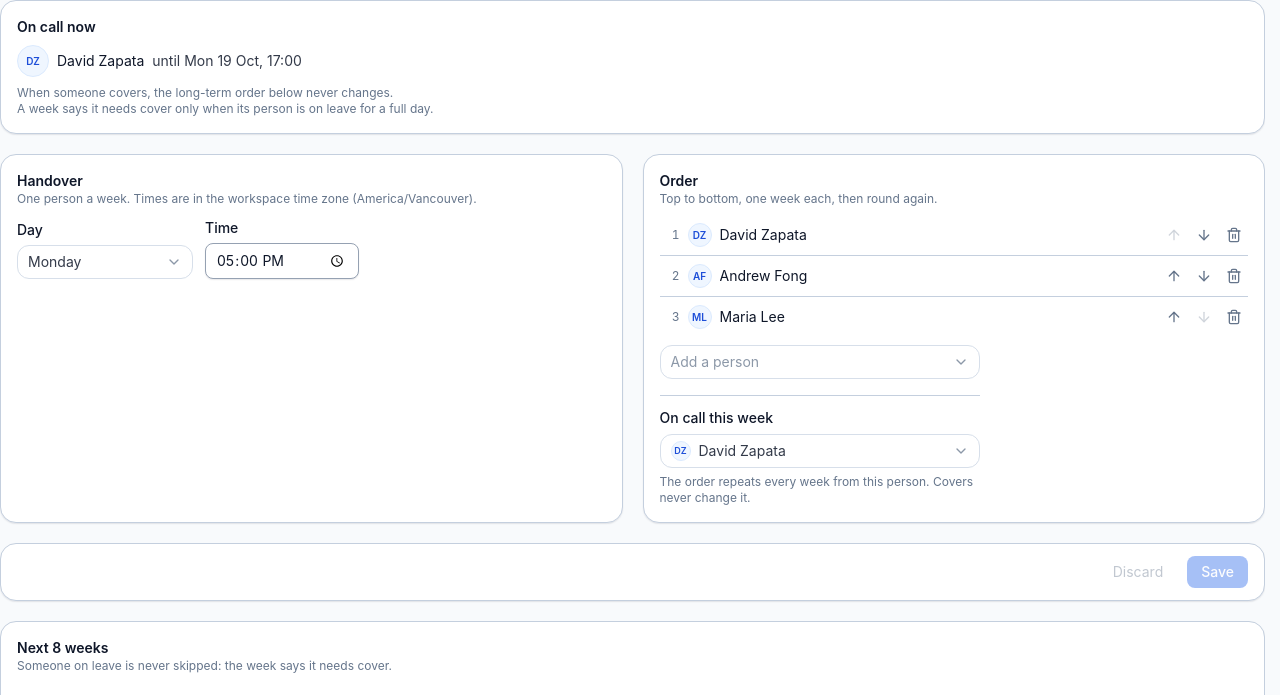
Urgent response: On-call › picking the scheduled person again is not a change
This screenshot has width=1280, height=695.
Click the dropdown named "On call this week": (742, 450) x1=660 y1=434 x2=980 y2=468
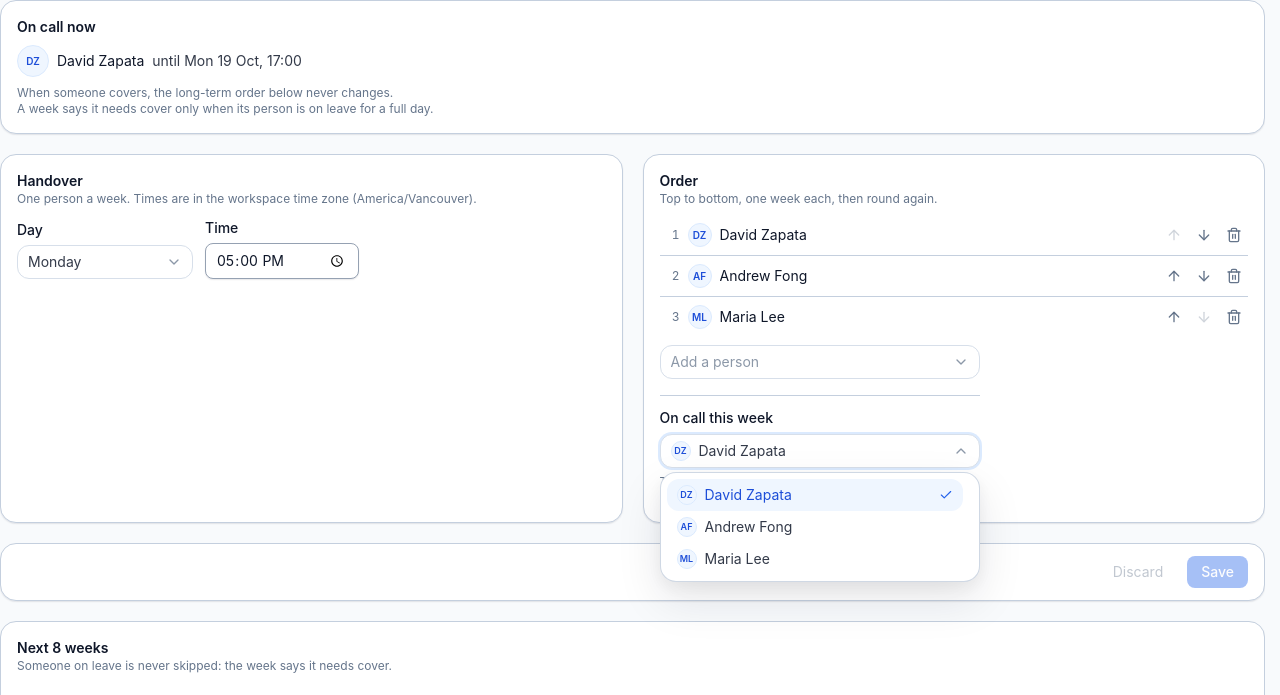
Click the option "ML Maria Lee": (723, 559) x1=676 y1=549 x2=770 y2=569
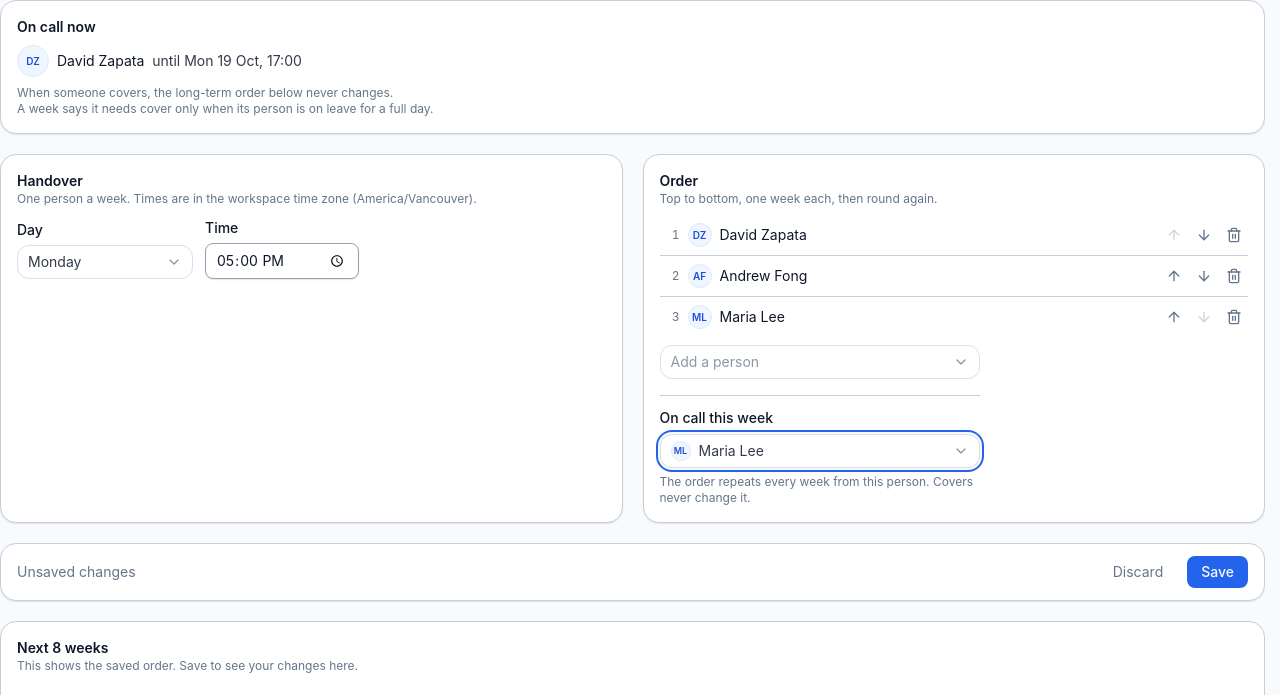
Click the dropdown named "On call this week": (731, 450) x1=660 y1=434 x2=980 y2=468
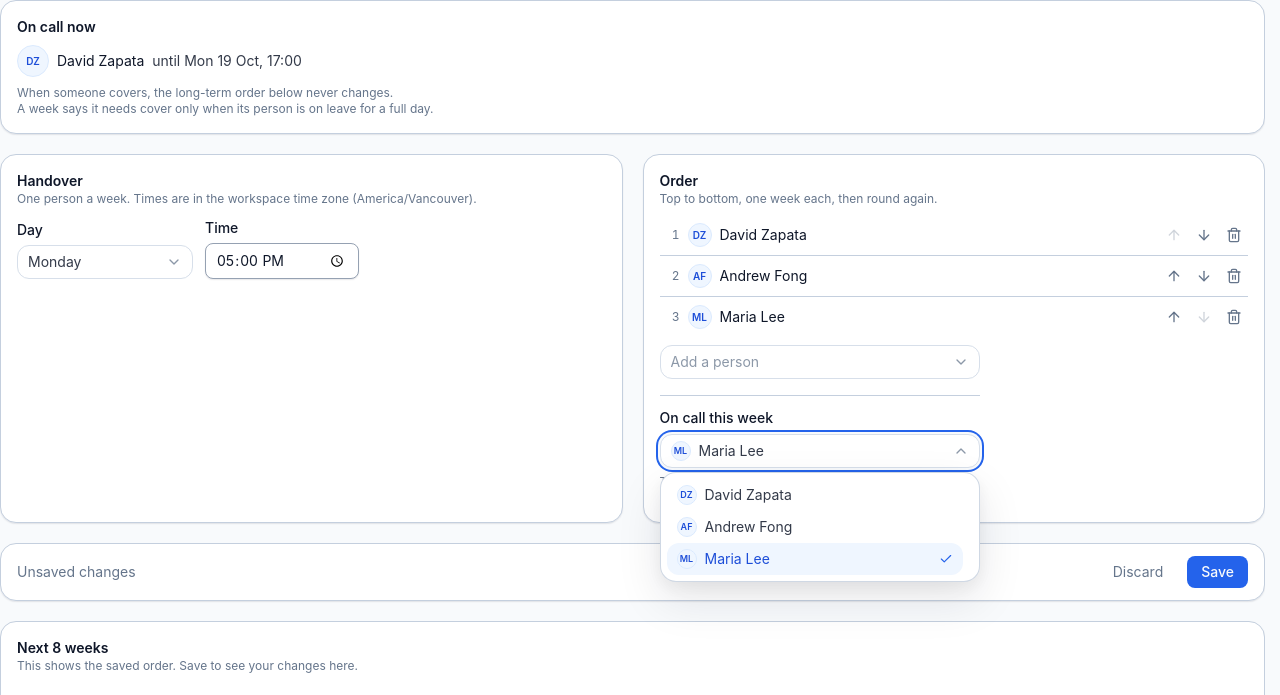
Click the option "David Zapata": (734, 495) x1=676 y1=485 x2=792 y2=505
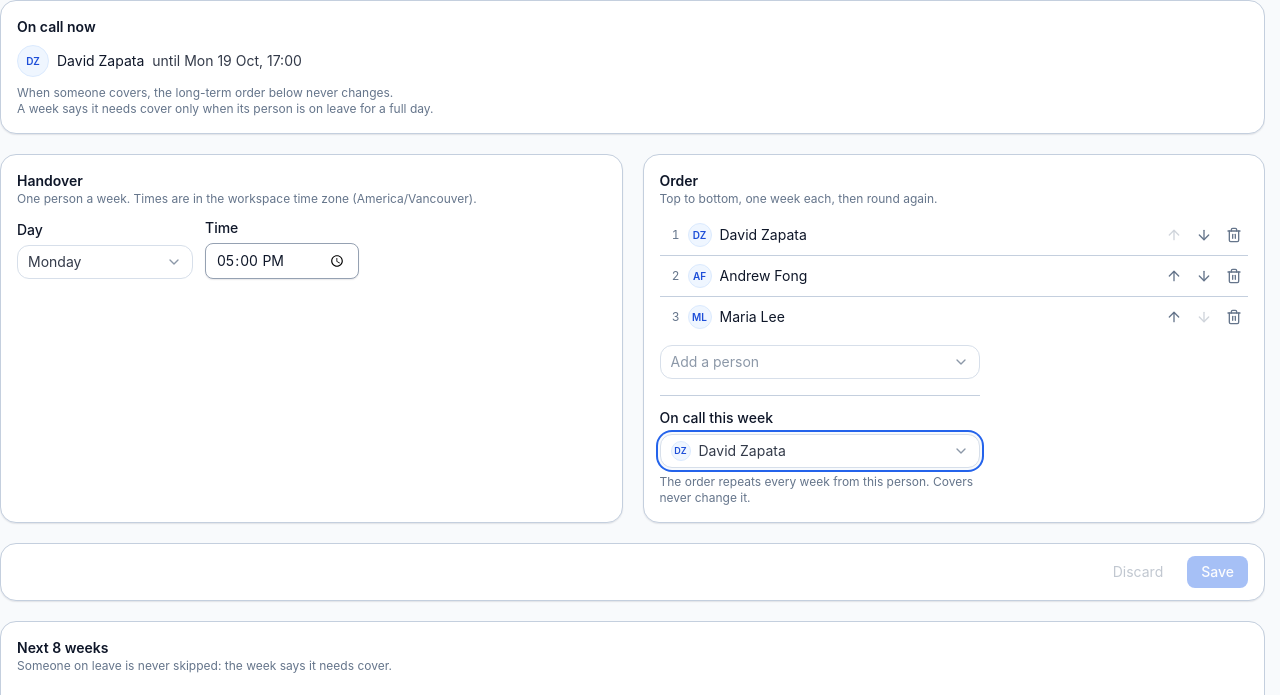
Check: the button "Save" is disabled, box x1=1187 y1=556 x2=1248 y2=588
